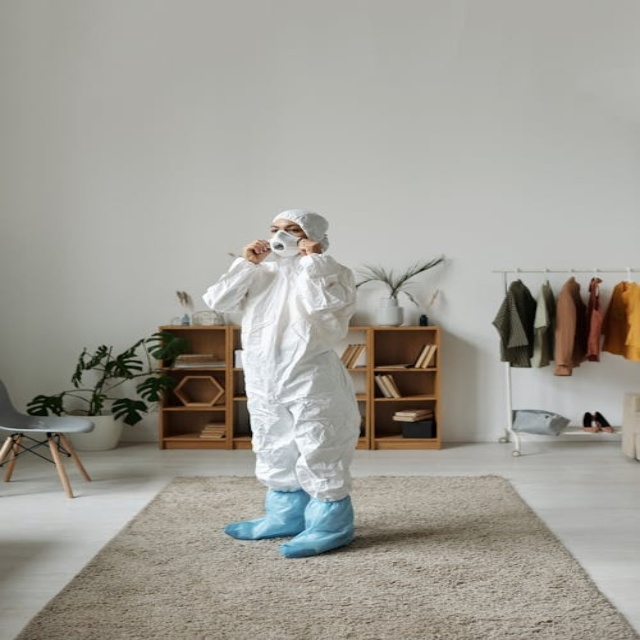Mascara: (267, 230, 306, 257)
Sin_gafas: (269, 221, 302, 234)
Sin_guantes: (244, 238, 269, 263)
